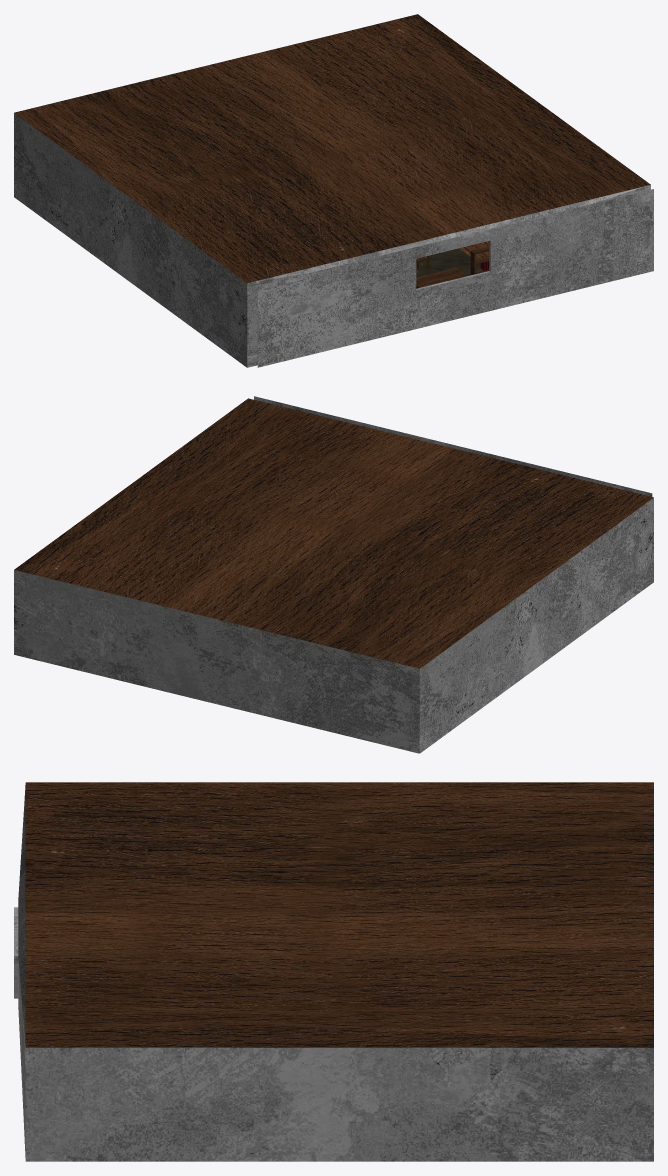
Rendered from Library Scene.glb.
3 views of the same model, one above another, from view 1: azimuth 30°, elevation 25°; view 2: azimuth 150°, elevation 25°; view 3: azimuth 270°, elevation 25° (orthographic). The views are drawn at different scales.
Visible parts, largest first — view 1: Cube, Plane, Fireplace; view 2: Cube; view 3: Cube.
Boxes of the visible parts, x1,y1,x2,y2 form: Cube: (14,14,653,367); Plane: (416,248,480,277); Fireplace: (416,267,467,288); Cube: (14,396,653,753); Cube: (14,782,653,1161).
Bounding box in the file's own units: 20 × 4 × 20.37.
Materials: 5 (5 with a texture image).
